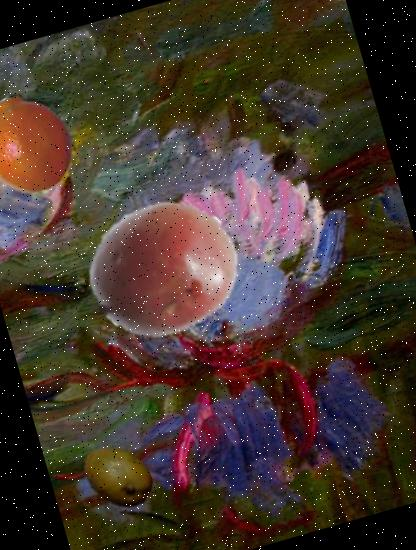Papaya: (72, 430, 164, 522)
Potato: (72, 178, 256, 362)
Tangelo: (0, 81, 88, 205)
